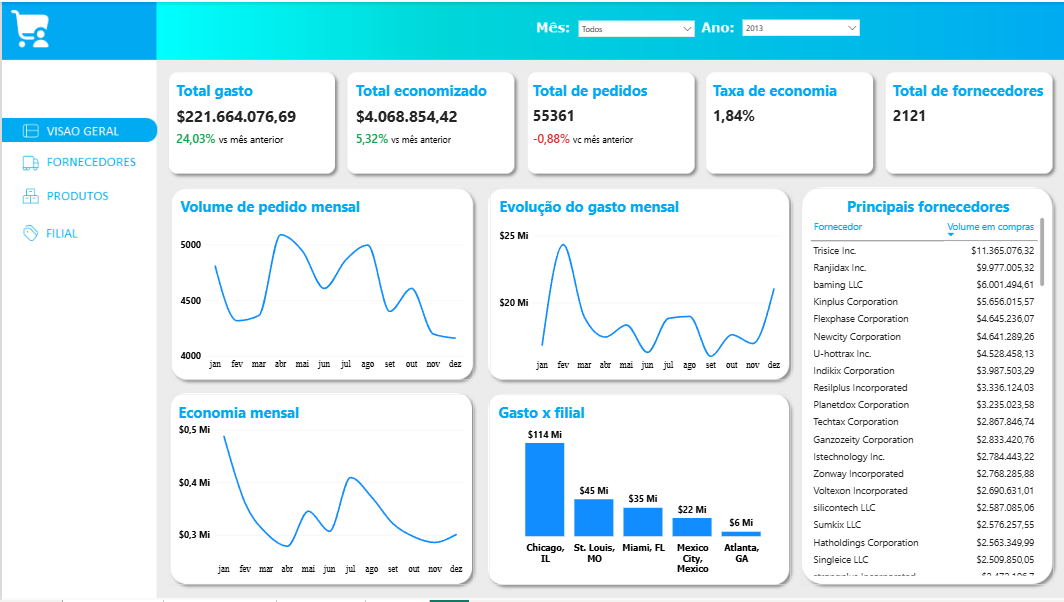

This screenshot's page, from the dashboard's own definition file:
{"tool":"powerbi","page":{"name":"Visão geral","canvas":[1920,1080],"ordinal":0},"visuals":[{"type":"cardVisual","title":"TOTAL  GASTO","fields":{"Data":["_metricas.Total de gastos"]},"box":[301.6,128.2,301.6,182.4],"z":0},{"type":"cardVisual","fields":{"Data":["_metricas.Total economizado"]},"box":[626.7,128.2,303.4,182.4],"z":1000},{"type":"cardVisual","fields":{"Data":["_metricas.Total de pedidos"]},"box":[946.4,128.2,305.2,182.4],"z":2000},{"type":"cardVisual","fields":{"Data":["_metricas.Taxa de economia"]},"box":[1271.4,128.2,305.2,182.4],"z":3000},{"type":"cardVisual","fields":{"Data":["_metricas.Total de fornecedores"]},"box":[1596.5,128.2,303.4,182.4],"z":4000},{"type":"lineChart","title":"Volume de pedido mensal","fields":{"Y":["_metricas.Total de pedidos"],"Category":["d_calendario.Mon"]},"box":[305.5,335,545.9,346.9],"z":5000},{"type":"lineChart","title":"Evolução do gasto mensal","fields":{"Y":["_metricas.Total de gastos"],"Category":["d_calendario.Mon"]},"box":[880.7,335.7,545,347.2],"z":6000},{"type":"lineChart","title":"Economia mensal","fields":{"Category":["d_calendario.Mon"],"Y":["_metricas.Total economizado"]},"box":[301.6,708,550.8,344.9],"z":7000},{"type":"tableEx","title":"Principais fornecedores","fields":{"Values":["d_Vendo.Vendor Name","_metricas.Total de gastos"]},"box":[1443,335.9,456.9,717],"z":8000},{"type":"clusteredColumnChart","title":"Gasto x filial","fields":{"Y":["_metricas.Total de gastos"],"Category":["d_Filial_Location.City"]},"box":[879.5,708,545.4,344.9],"z":9000},{"type":"slicer","fields":{"Values":["d_calendario.Month"]},"box":[1037.5,28.3,219.2,39.7],"z":10000},{"type":"slicer","fields":{"Values":["d_calendario.Year"]},"box":[1332.3,27.6,220.7,41.4],"z":11000},{"type":"actionButton","box":[0,266.1,281.8,45.3],"z":12000},{"type":"actionButton","box":[0,325.2,281.8,45.3],"z":13000},{"type":"actionButton","box":[0,394.2,281.8,45.3],"z":14000}]}

Visuals, with their boxes on the page's 1920x1080 design canvas (x1, y1, x2, y2). These are canvas units, not pixel positions in the 1064x602 screenshot, which may show the page scaled, cropped or inside an application window:
"TOTAL  GASTO" cardVisual: <region>302, 128, 603, 311</region>
cardVisual - _metricas.Total economizado: <region>627, 128, 930, 311</region>
cardVisual - _metricas.Total de pedidos: <region>946, 128, 1252, 311</region>
cardVisual - _metricas.Taxa de economia: <region>1271, 128, 1577, 311</region>
cardVisual - _metricas.Total de fornecedores: <region>1596, 128, 1900, 311</region>
"Volume de pedido mensal" lineChart: <region>306, 335, 851, 682</region>
"Evolução do gasto mensal" lineChart: <region>881, 336, 1426, 683</region>
"Economia mensal" lineChart: <region>302, 708, 852, 1053</region>
"Principais fornecedores" tableEx: <region>1443, 336, 1900, 1053</region>
"Gasto x filial" clusteredColumnChart: <region>880, 708, 1425, 1053</region>
slicer - d_calendario.Month: <region>1038, 28, 1257, 68</region>
slicer - d_calendario.Year: <region>1332, 28, 1553, 69</region>
actionButton: <region>0, 266, 282, 311</region>
actionButton: <region>0, 325, 282, 370</region>
actionButton: <region>0, 394, 282, 440</region>
